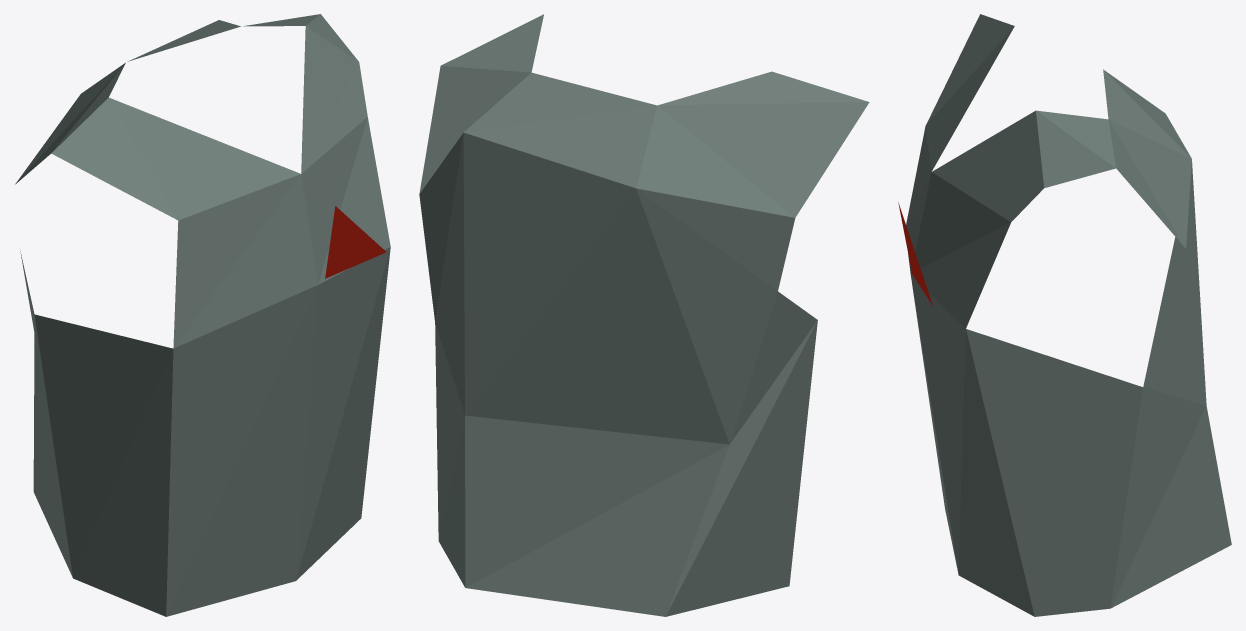
3 views of the same model, side by side, from view 1: azimuth 30°, elevation 25°; view 2: azimuth 150°, elevation 25°; view 3: azimuth 270°, elevation 25° (orthographic). The views are drawn at different scales.
Bounding box in the file's own units: 0.525 × 0.7445 × 0.4613.
2 materials, 2 textured.
